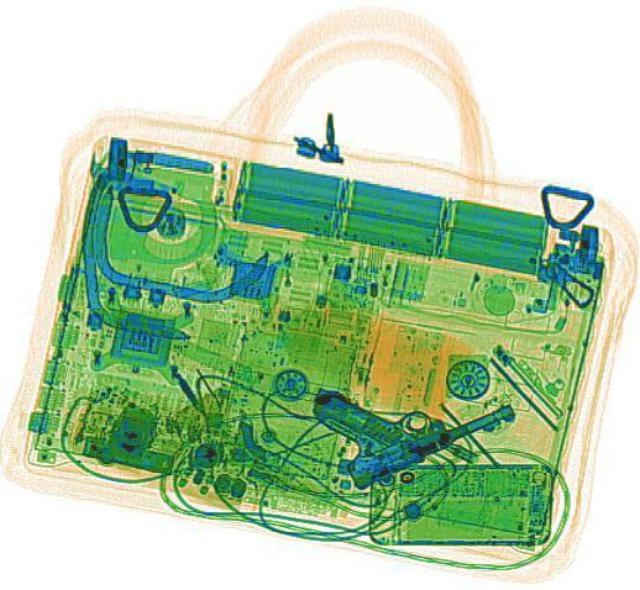Gun: (300, 326, 516, 485)
